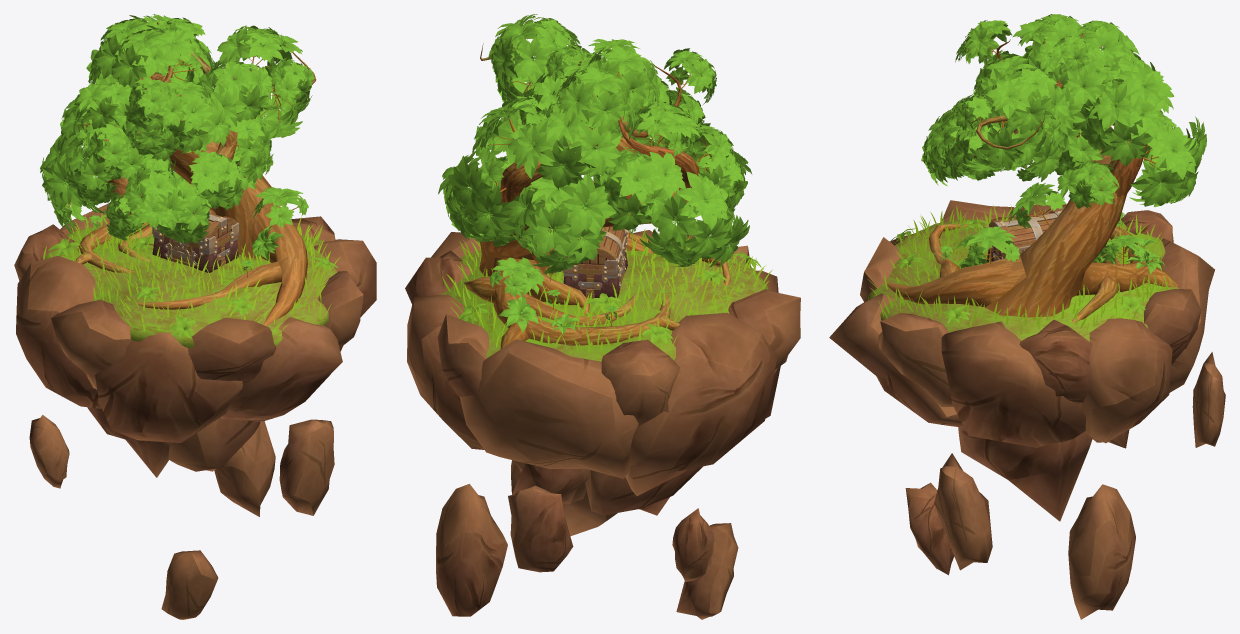
3 views of the same model, side by side, from view 1: azimuth 30°, elevation 25°; view 2: azimuth 150°, elevation 25°; view 3: azimuth 270°, elevation 25° (orthographic). The views are drawn at different scales.
Parts seen in each view (by area): view 1: Rock_01_LP_BigRocks_0, Plant_01_LP_Leaves_0, Grass_01_OtherNature_0, Tree_01_LP_BigTree_0, Bottom_01_LP_Bottom_0, Cloth_01_LP_DetailsCloth_0, Top_01_LP_Top_0; view 2: Rock_01_LP_BigRocks_0, Plant_01_LP_Leaves_0, Grass_01_OtherNature_0, Tree_01_LP_BigTree_0, Top_01_LP_Top_0, Cloth_01_LP_DetailsCloth_0, Bottom_01_LP_Bottom_0; view 3: Rock_01_LP_BigRocks_0, Plant_01_LP_Leaves_0, Tree_01_LP_BigTree_0, Grass_01_OtherNature_0, Top_01_LP_Top_0.
Boxes of the visible parts, <box> form: Rock_01_LP_BigRocks_0: <box>14,203,376,619</box>; Plant_01_LP_Leaves_0: <box>40,14,337,338</box>; Grass_01_OtherNature_0: <box>42,47,340,348</box>; Tree_01_LP_BigTree_0: <box>75,22,316,325</box>; Bottom_01_LP_Bottom_0: <box>152,230,238,266</box>; Cloth_01_LP_DetailsCloth_0: <box>152,217,238,272</box>; Top_01_LP_Top_0: <box>152,211,238,248</box>; Rock_01_LP_BigRocks_0: <box>405,230,800,619</box>; Plant_01_LP_Leaves_0: <box>438,14,761,343</box>; Grass_01_OtherNature_0: <box>441,39,772,361</box>; Tree_01_LP_BigTree_0: <box>464,44,730,348</box>; Top_01_LP_Top_0: <box>564,226,627,270</box>; Cloth_01_LP_DetailsCloth_0: <box>563,230,627,297</box>; Bottom_01_LP_Bottom_0: <box>562,239,627,298</box>; Rock_01_LP_BigRocks_0: <box>829,200,1225,619</box>; Plant_01_LP_Leaves_0: <box>890,14,1206,324</box>; Tree_01_LP_BigTree_0: <box>883,33,1177,323</box>; Grass_01_OtherNature_0: <box>867,41,1178,341</box>; Top_01_LP_Top_0: <box>987,210,1062,252</box>.
Size of the model in its own units: 4.43 by 7.11 by 4.55.
Materials: 7 (7 with a texture image).
